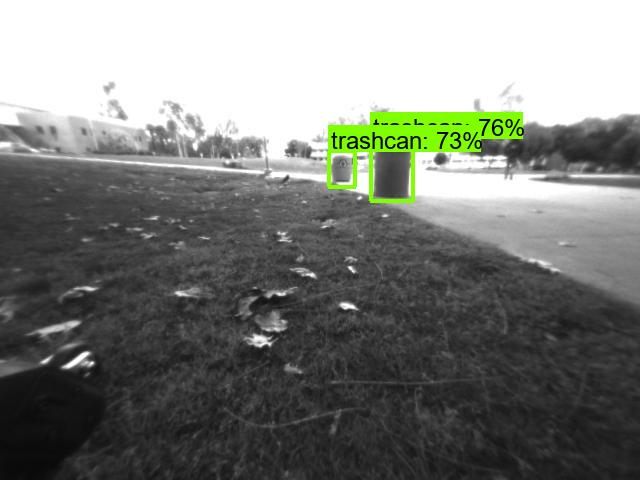trashcan: (373, 141, 409, 200), (331, 153, 356, 184)
